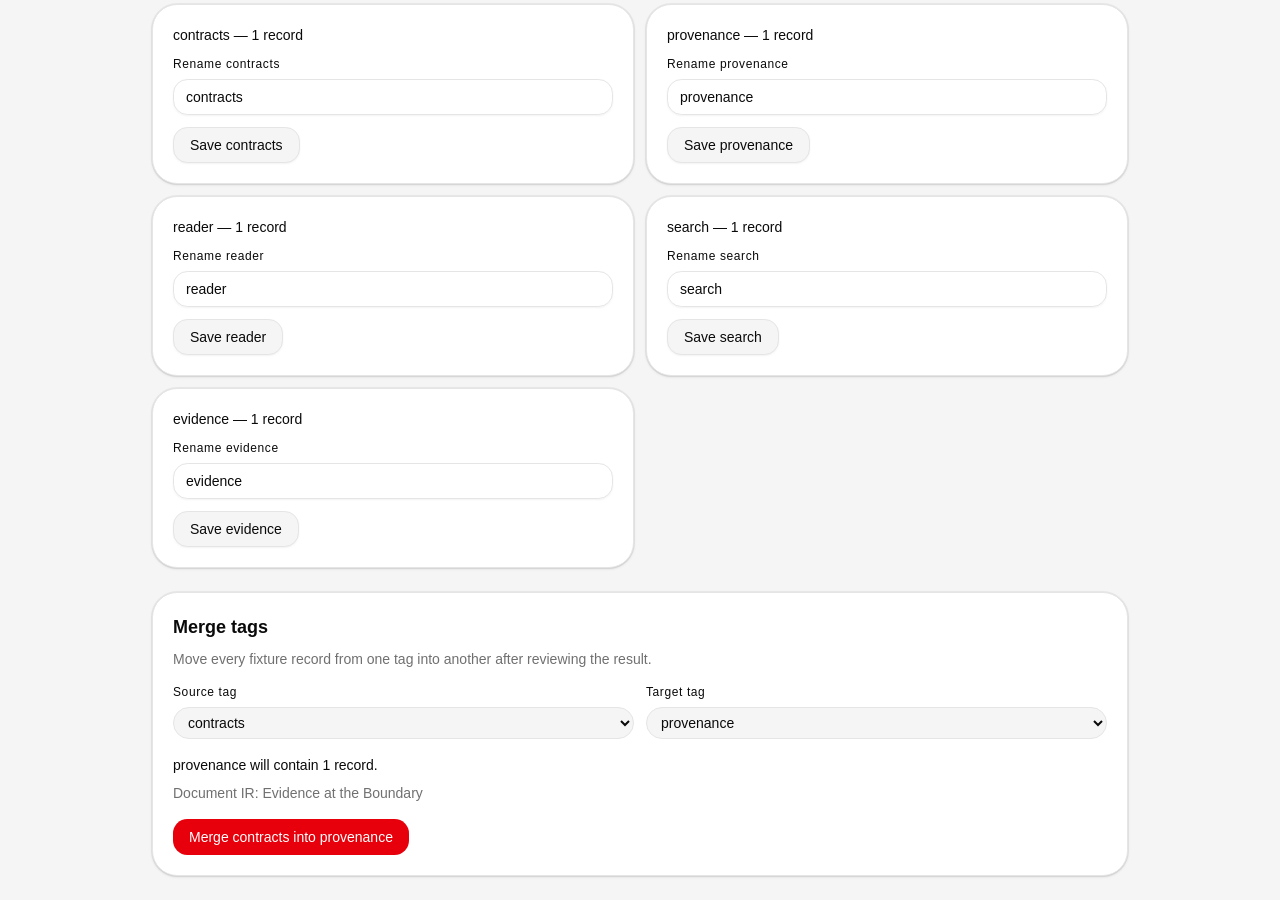
it: TagsPage › rolls back a rejected merge
(page scrolled)
Select "provenance" in the dropdown labelled "Source tag": point(404, 723) [173,707,634,739]
(page scrolled)
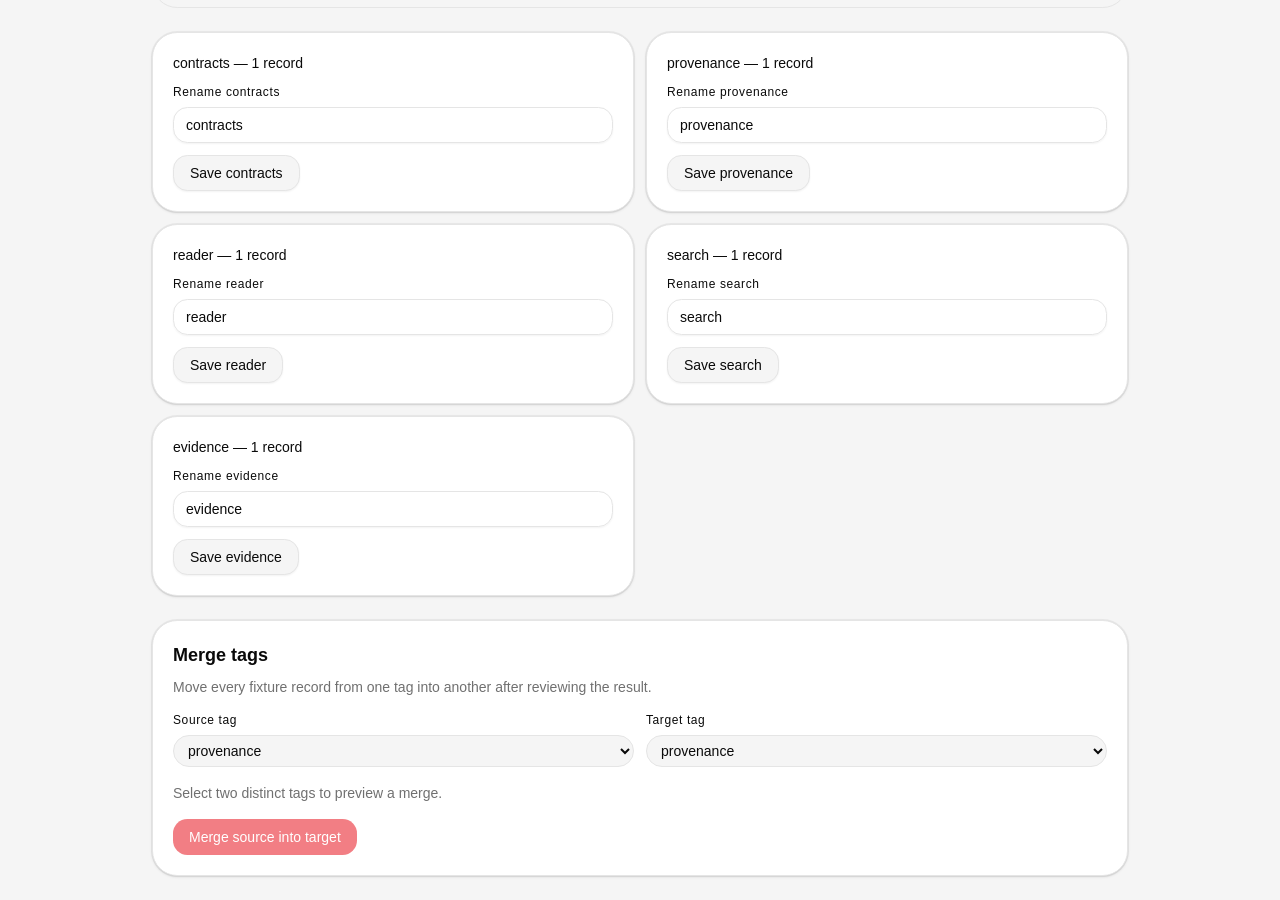
Select "contracts" in the dropdown labelled "Target tag": point(876, 751) [646,735,1107,767]
(page scrolled)
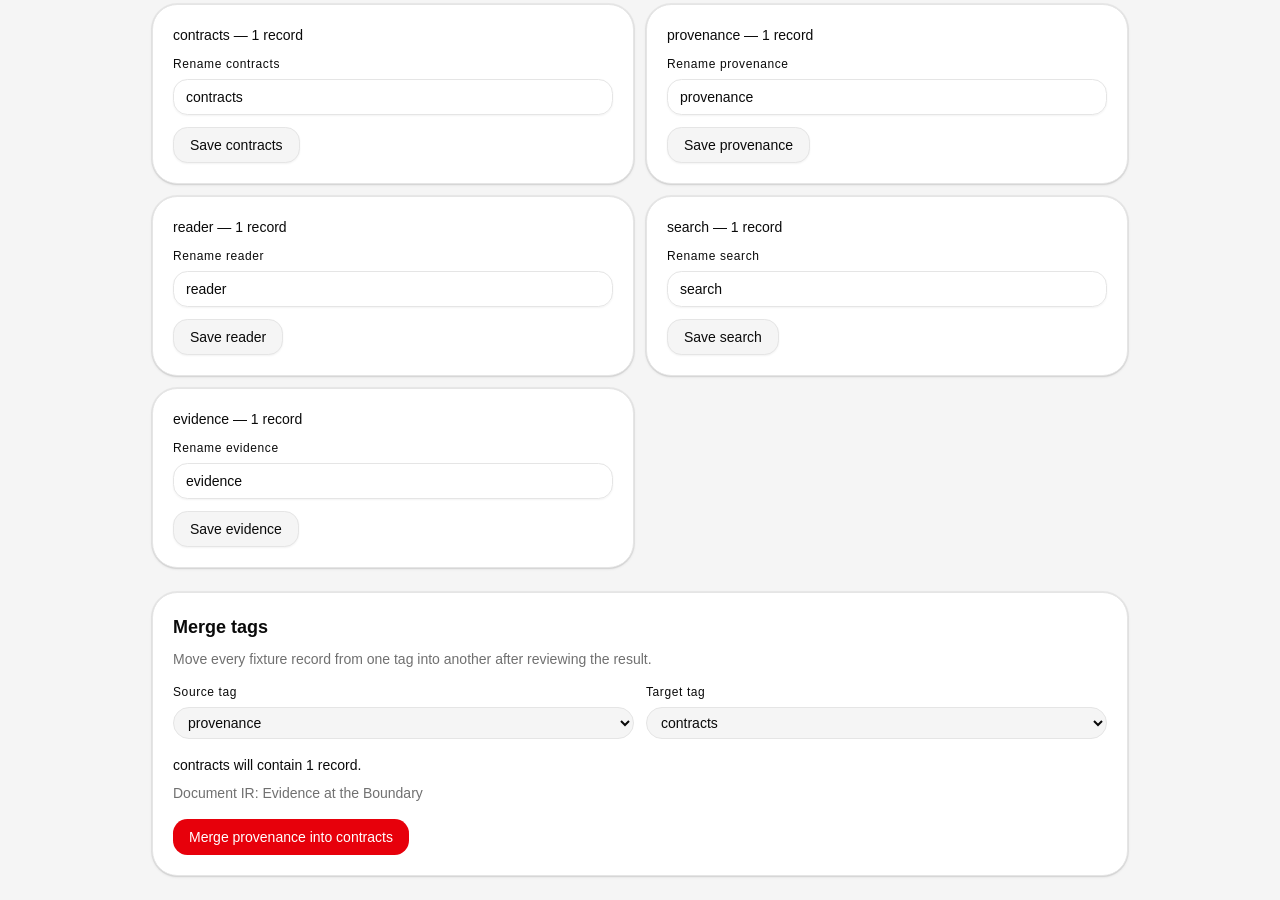
Click the button "Merge provenance into contracts": point(291, 837) [173,819,409,855]
(page scrolled)
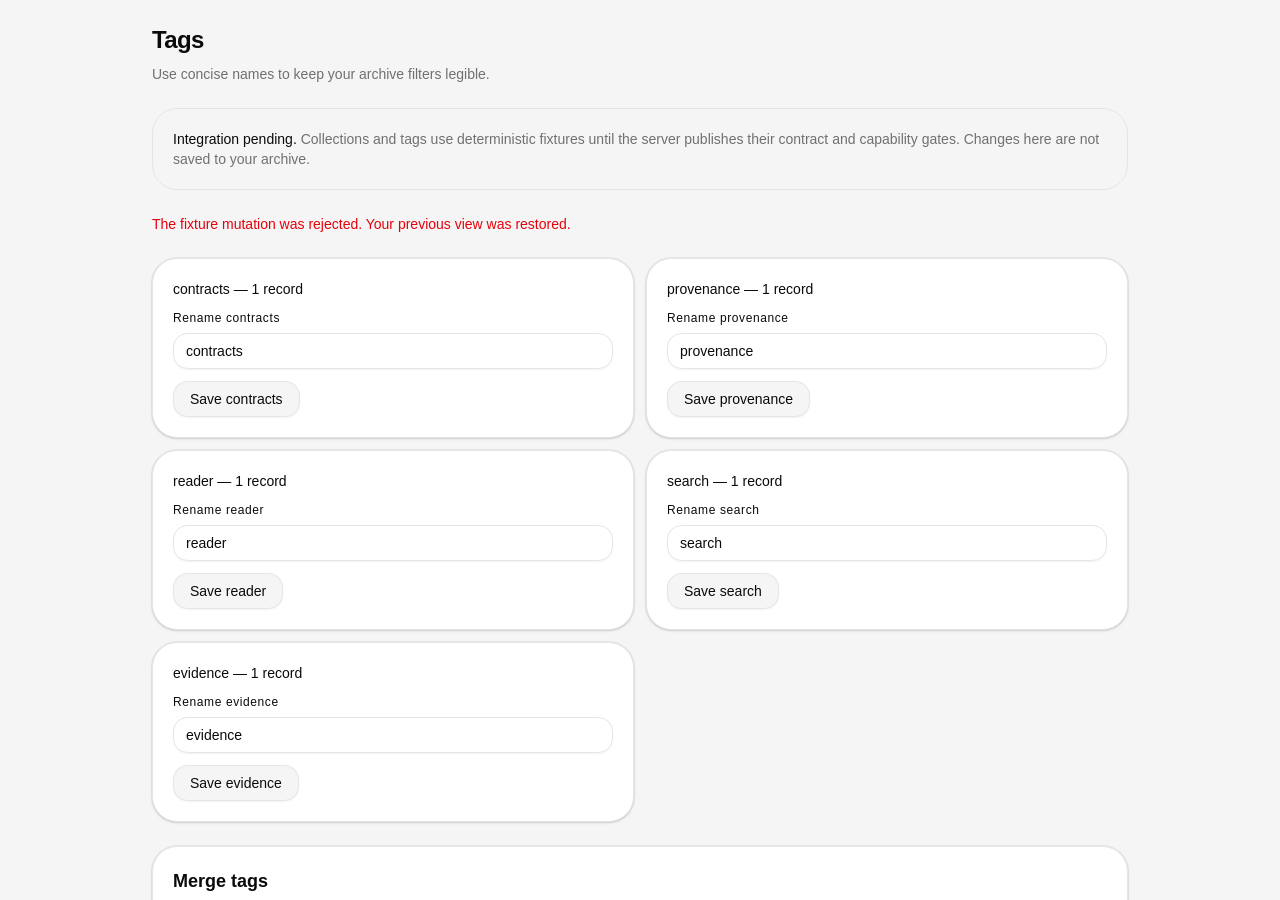
Check: the field labelled "Rename provenance" holds "provenance", box [667,333,1107,369]
Check: the message shows "previous view was restored", box [152,216,571,232]
